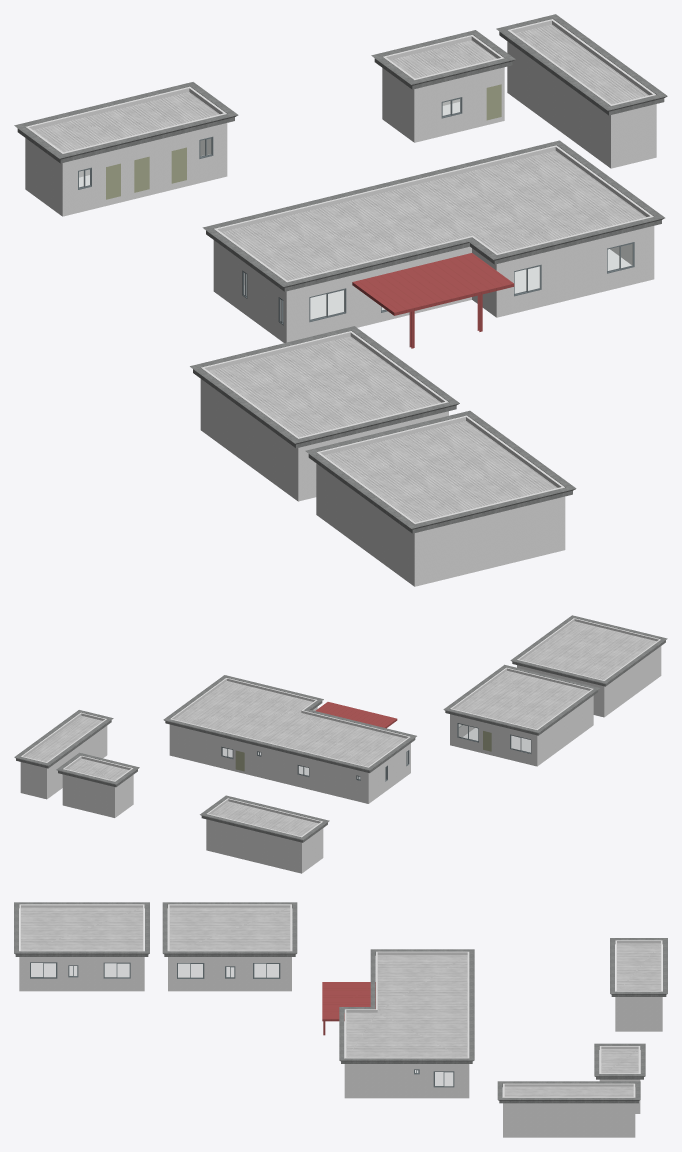
Rendered from Plan(REF)_levels(1)_window(REF)_wall(WAFRA WALL)_quoin(N)_cornice(Y).fbx.
The picture shows the model from 3 angles, top to bottom: view 1: azimuth 30°, elevation 25°; view 2: azimuth 150°, elevation 25°; view 3: azimuth 270°, elevation 25°; orthographic projection. The views are drawn at different scales.
Visible parts, largest first — view 1: WAFRA Stucco - White Rough 23, WAFRA Roof - Corrugated Sheet Matte 23, Concrete - Structural, WAFRA Roof - Standing Seam Red Coat 23, Glass - Clear, Color - Beige, Metal - Finish - Aluminum; view 2: WAFRA Stucco - White Rough 23, WAFRA Roof - Corrugated Sheet Matte 23, Concrete - Structural, WAFRA Roof - Standing Seam Red Coat 23, Glass - Clear, Metal - Finish - Aluminum; view 3: WAFRA Roof - Corrugated Sheet Matte 23, WAFRA Stucco - White Rough 23, Concrete - Structural, Glass - Clear, WAFRA Roof - Standing Seam Red Coat 23, Metal - Finish - Aluminum.
Part boxes in pixels (<box>): WAFRA Stucco - White Rough 23: <box>25,19,656,586</box>; WAFRA Roof - Corrugated Sheet Matte 23: <box>33,24,648,522</box>; Concrete - Structural: <box>14,14,667,533</box>; WAFRA Roof - Standing Seam Red Coat 23: <box>352,253,514,348</box>; Glass - Clear: <box>79,99,632,320</box>; Color - Beige: <box>106,84,501,199</box>; Metal - Finish - Aluminum: <box>78,97,634,325</box>; WAFRA Stucco - White Rough 23: <box>20,618,661,873</box>; WAFRA Roof - Corrugated Sheet Matte 23: <box>25,621,656,836</box>; Concrete - Structural: <box>14,615,667,842</box>; WAFRA Roof - Standing Seam Red Coat 23: <box>315,702,397,728</box>; Glass - Clear: <box>223,724,530,778</box>; Metal - Finish - Aluminum: <box>221,723,531,781</box>; WAFRA Roof - Corrugated Sheet Matte 23: <box>21,907,660,1096</box>; WAFRA Stucco - White Rough 23: <box>19,904,662,1137</box>; Concrete - Structural: <box>14,902,667,1103</box>; Glass - Clear: <box>31,963,452,1085</box>; WAFRA Roof - Standing Seam Red Coat 23: <box>322,982,375,1035</box>; Metal - Finish - Aluminum: <box>30,962,454,1087</box>.
Size of the model in its own units: 4244 by 5930 by 400.
Materials: 12 (5 with a texture image).
